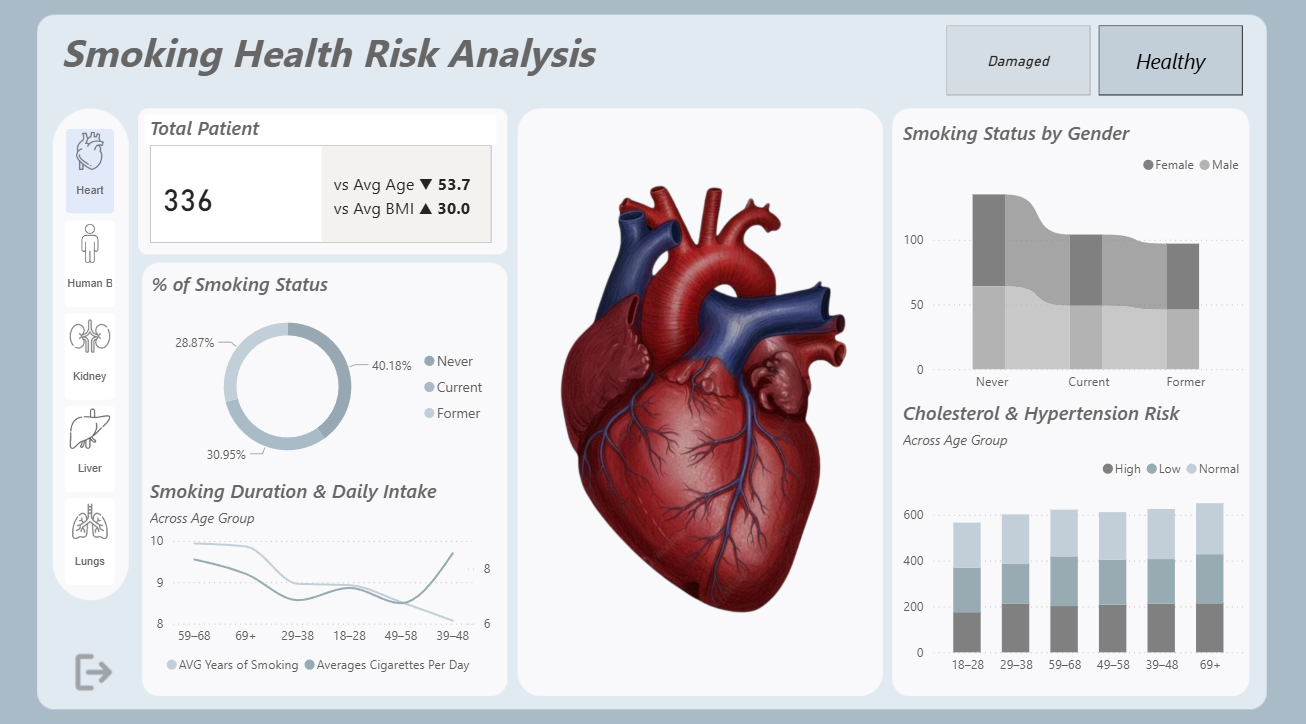

The dashboard page shown, as its layout file describes it:
{"tool":"powerbi","page":{"name":"Page 1","canvas":[1280,720],"ordinal":0},"visuals":[{"type":"advancedSlicerVisual","fields":{"Values":["condition.Organ_Condition"]},"box":[918.6,25.7,298.6,78.6],"z":0},{"type":"cardVisual","title":"Total Patient","fields":{"Data":["CountNonNull(health_dataset.Patient_ID)"]},"box":[145,118.8,342,130],"z":1000},{"type":"ChicletSlicer1448559807354","fields":{"Category":["Organs.Organ"],"Image":["Organs.Icon_URL"]},"box":[58.9,123.2,86.8,465.3],"z":2000},{"type":"image","box":[515,118.3,342,553.3],"z":3000},{"type":"donutChart","title":"% of Smoking Status","fields":{"Category":["health_dataset.Smoking_Status"],"Y":["CountNonNull(health_dataset.Smoking_Status)"]},"box":[145.7,270,341.4,200],"z":4000},{"type":"lineChart","title":"Smoking Duration & Daily Intake","fields":{"Category":["health_dataset.Age Group"],"Y":["Avg(health_dataset.Years_of_Smoking)"],"Y2":["Avg(health_dataset.Cigarettes_Per_Day)"]},"box":[144.3,471.4,341.4,200],"z":5000},{"type":"ribbonChart","title":"Smoking Status by Gender","fields":{"Category":["health_dataset.Smoking_Status"],"Y":["CountNonNull(health_dataset.Patient_ID)"],"Series":["health_dataset.Gender"]},"box":[875.7,122.9,341.4,272.9],"z":6000},{"type":"columnChart","title":"Cholesterol & Hypertension Risk","fields":{"Category":["health_dataset.Age Group"],"Y":["Avg(health_dataset.Cholesterol_Level)"],"Series":["health_dataset.BP_Risk"]},"box":[875.7,395.7,342,275.7],"z":7000},{"type":"textbox","box":[58.6,25.7,547.1,64.3],"z":7001}]}

Visuals, with their boxes in screenshot pixels (x1, y1, x2, y2), scaled from the page's 1280x720 canvas onto the 1306x724 screenshot:
advancedSlicerVisual - condition.Organ_Condition: x1=937 y1=26 x2=1242 y2=105
"Total Patient" cardVisual: x1=148 y1=119 x2=497 y2=250
ChicletSlicer1448559807354 - Organs.Organ x Organs.Icon_URL: x1=60 y1=124 x2=149 y2=592
image: x1=525 y1=119 x2=874 y2=675
"% of Smoking Status" donutChart: x1=149 y1=272 x2=497 y2=473
"Smoking Duration & Daily Intake" lineChart: x1=147 y1=474 x2=496 y2=675
"Smoking Status by Gender" ribbonChart: x1=893 y1=124 x2=1242 y2=398
"Cholesterol & Hypertension Risk" columnChart: x1=893 y1=398 x2=1242 y2=675
textbox: x1=60 y1=26 x2=618 y2=90
